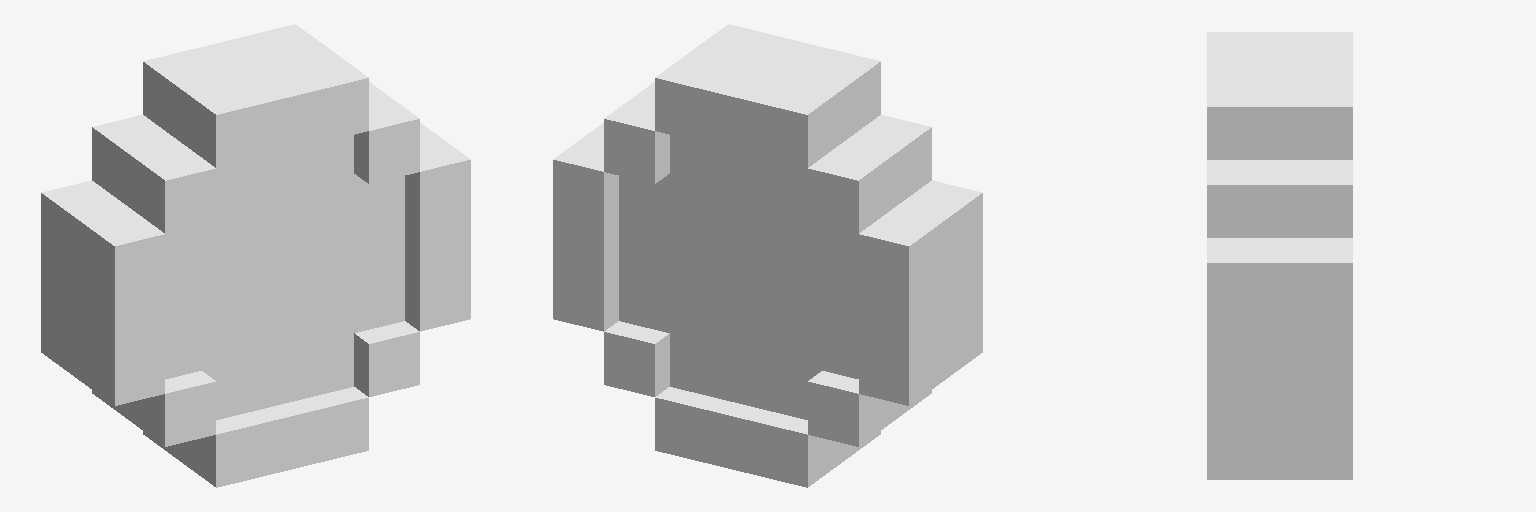
The model's file is 3DCoin.obj.
3 renders of one model, left to right at view 1: azimuth 30°, elevation 25°; view 2: azimuth 150°, elevation 25°; view 3: azimuth 270°, elevation 25°, orthographic.
Parts seen in each view (by area): view 1: Coin-1; view 2: Coin-1; view 3: Coin-1.
Boxes of the visible parts, x1=… form: Coin-1: x1=41, y1=24, x2=470, y2=487; Coin-1: x1=553, y1=24, x2=982, y2=487; Coin-1: x1=1207, y1=32, x2=1352, y2=479.
Size of the model in its own units: 1.4 by 1.4 by 0.5.